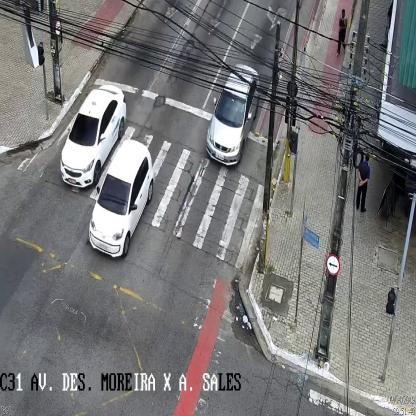car: (88, 141, 154, 258), (59, 82, 125, 184), (204, 62, 258, 170)
person: (354, 152, 370, 214), (335, 7, 346, 58)
